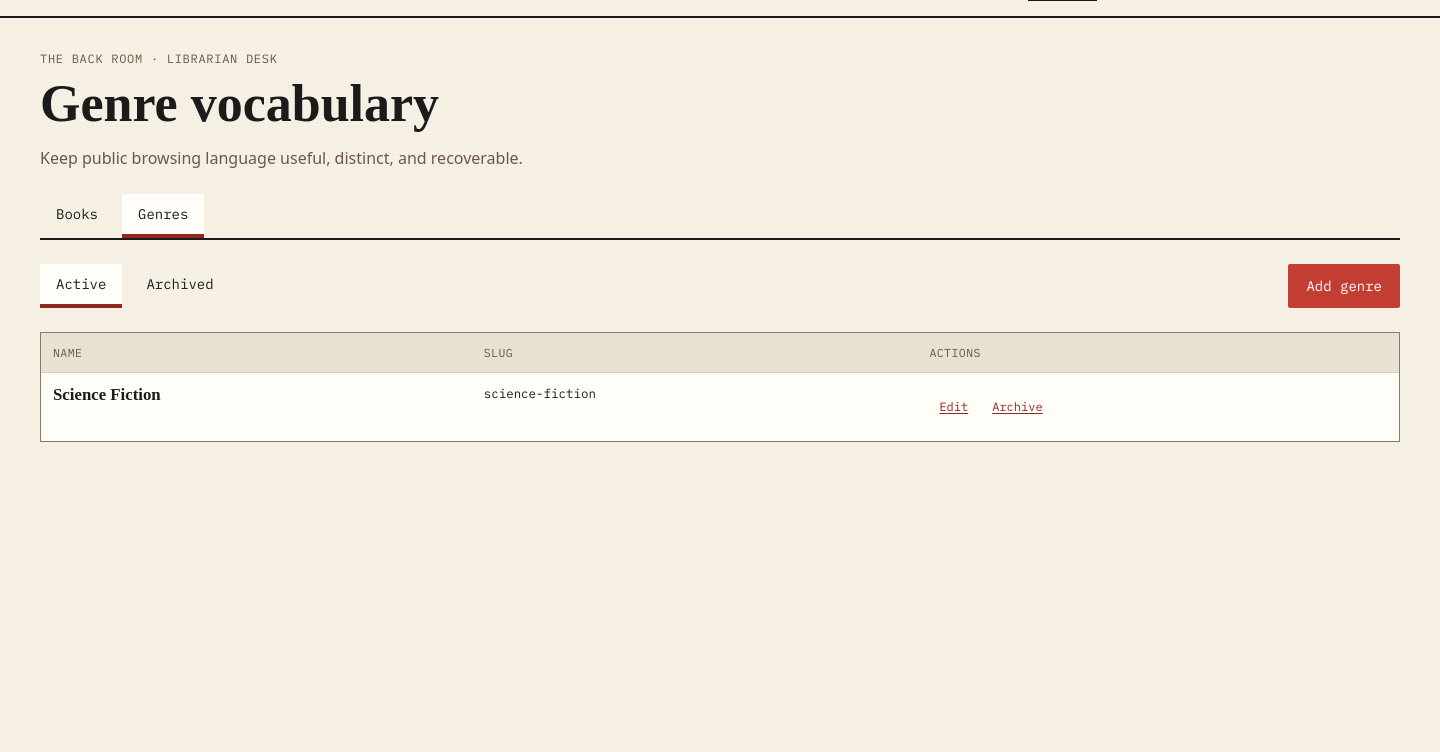
genre management › shows the sole-active-genre conflict and retains an open edit form
Click the button "Edit".
click(954, 407)  # box [929,385,978,429]
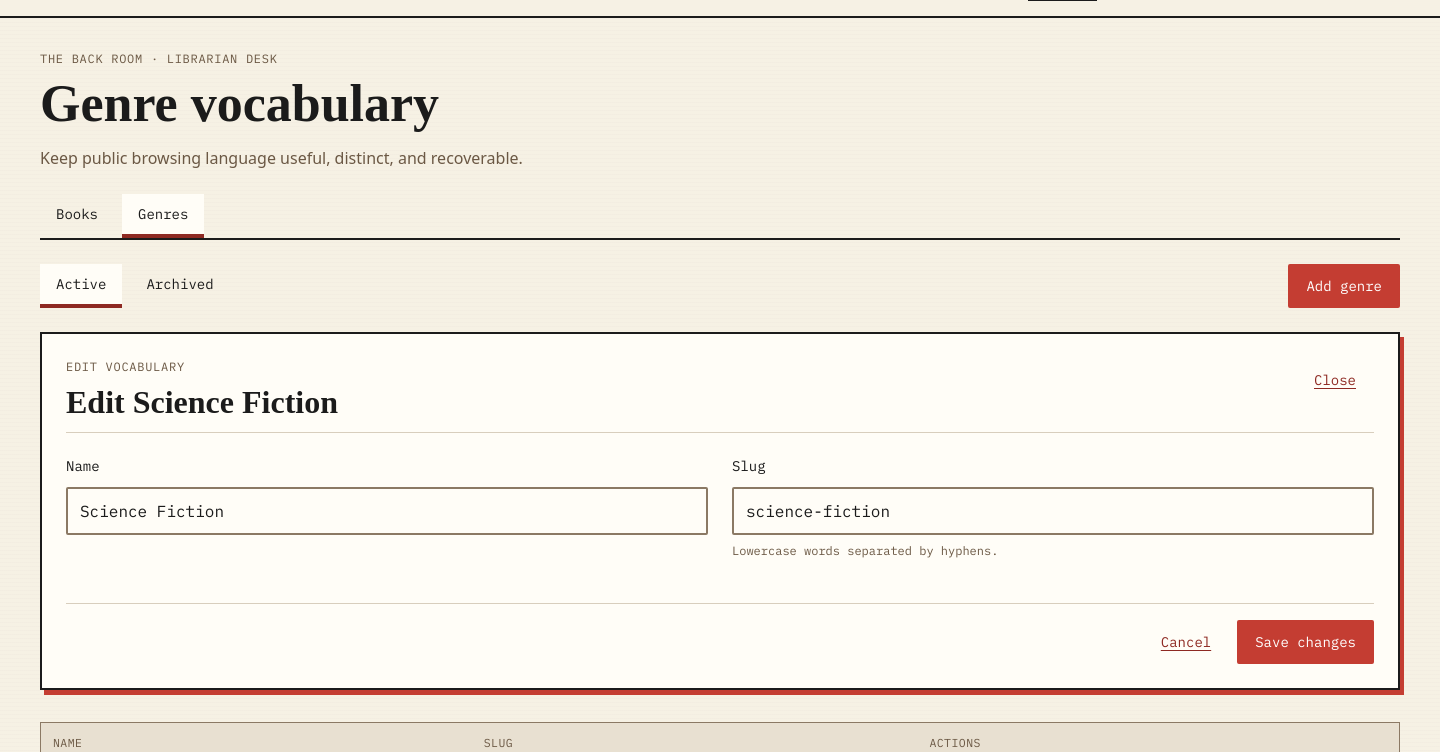
Replace the text in the field labelled "Name" with "Speculative Fiction" at (387, 511), box [66,487,708,535]
(page scrolled)
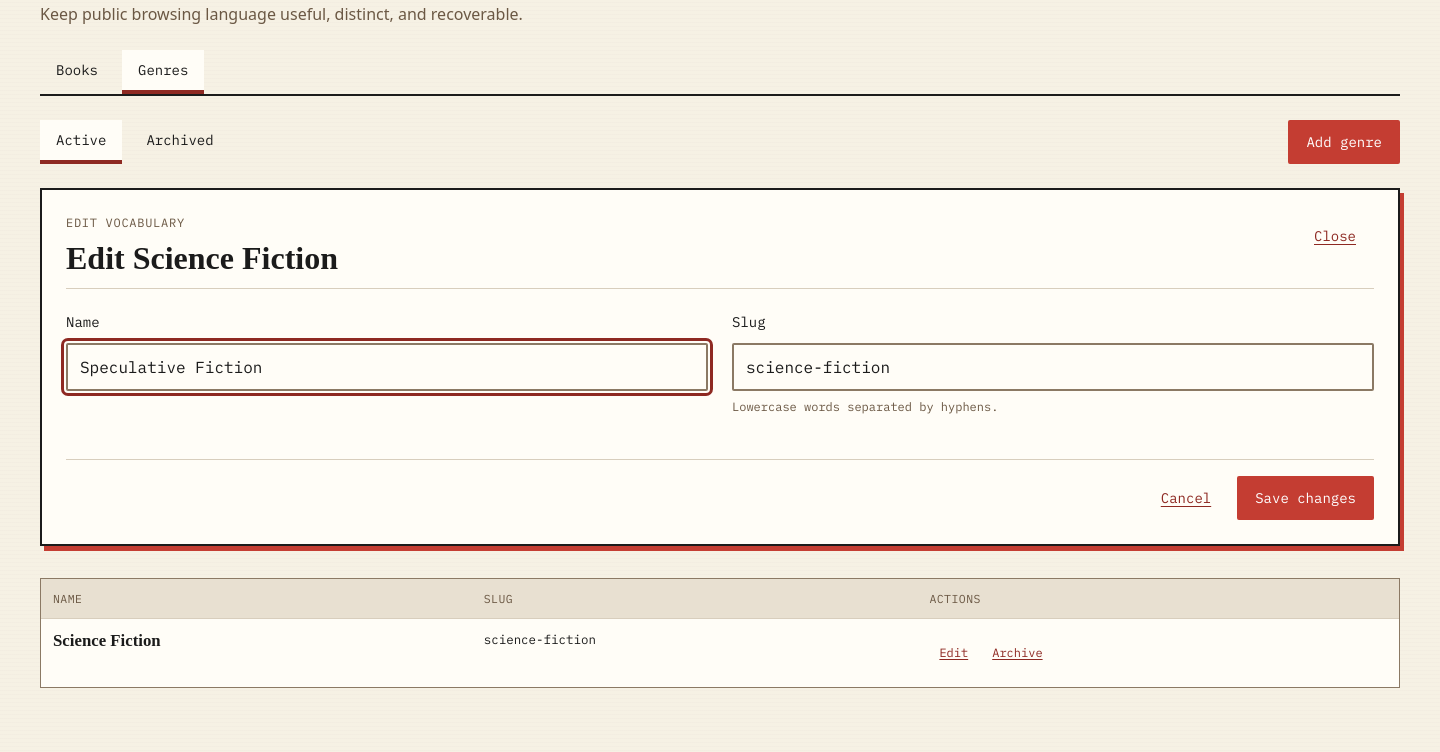
Click the button "Archive".
click(1017, 653)  # box [982,631,1053,675]
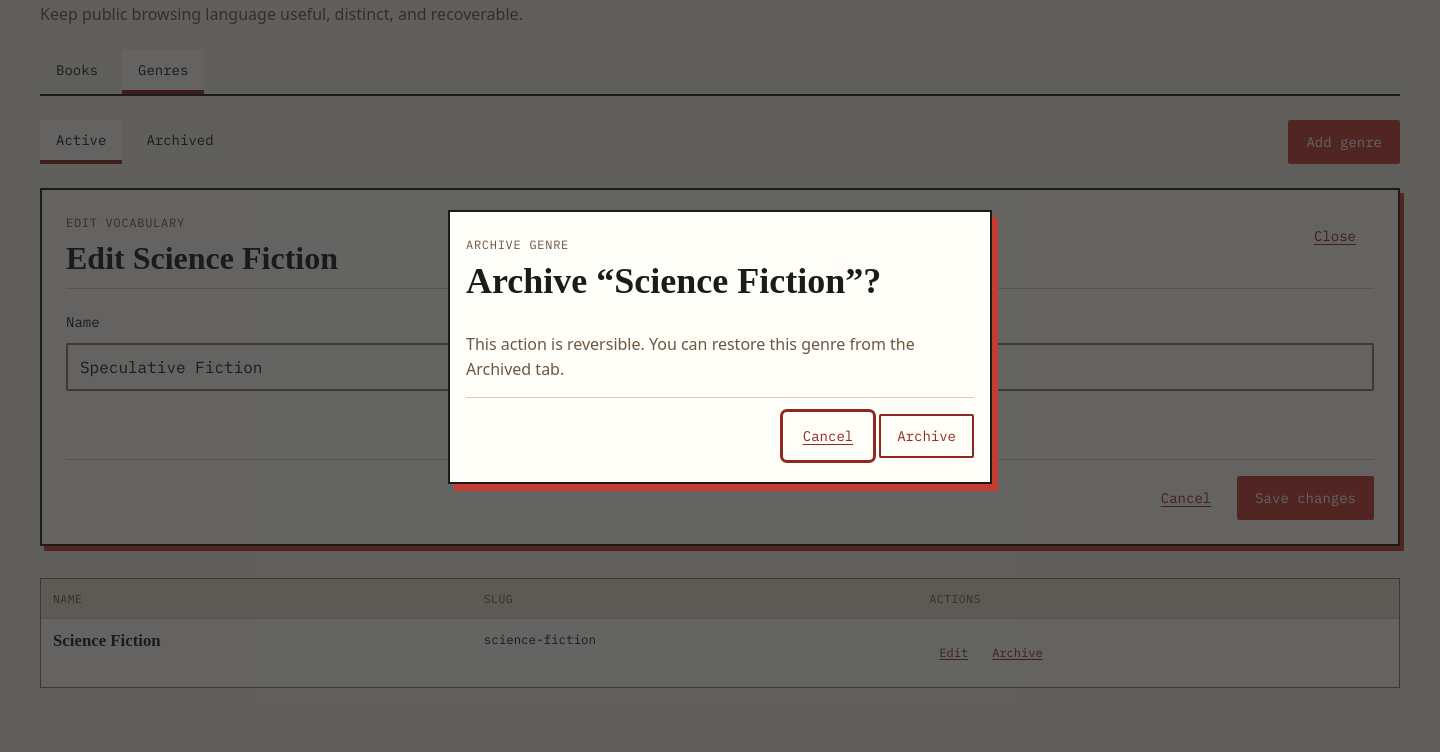
Click the button "Archive".
click(927, 436)  # box [879,414,974,458]
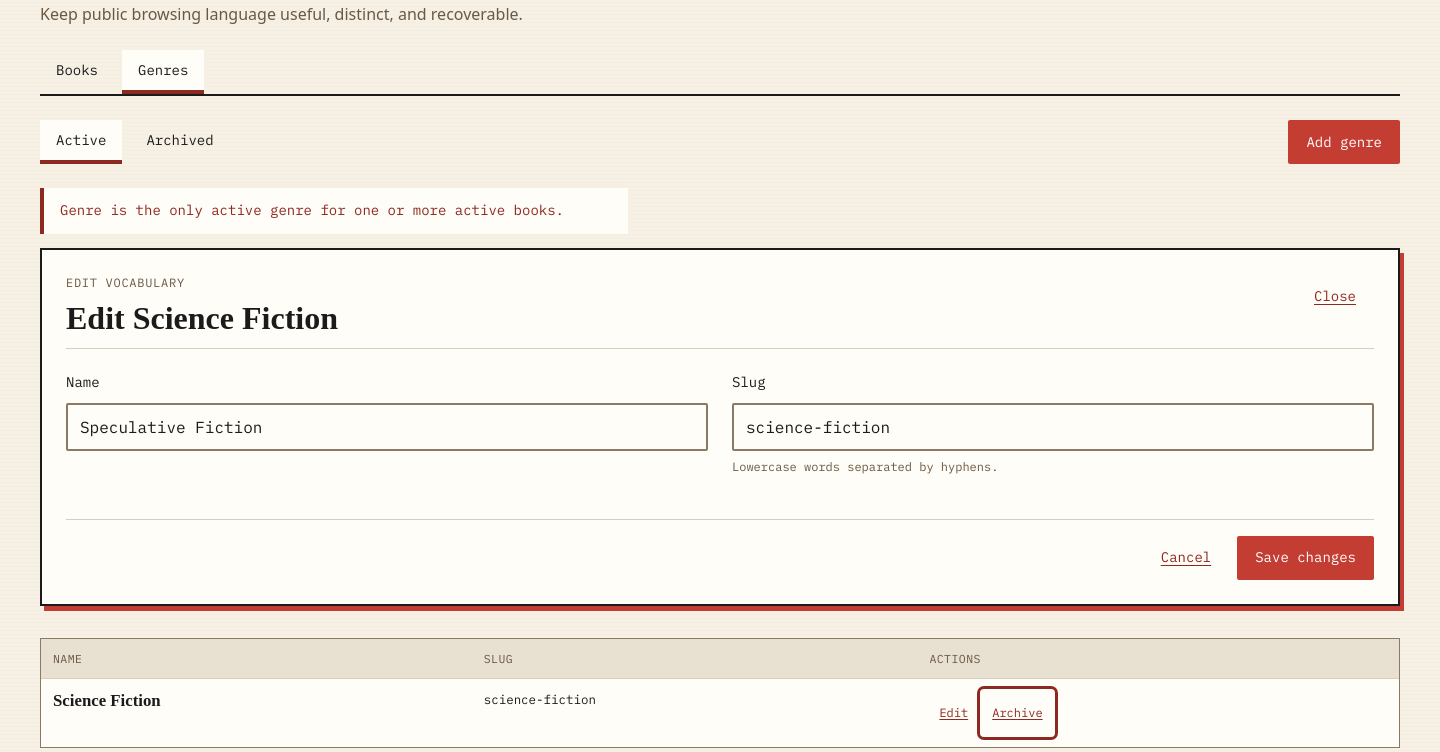
expect the message reads "Genre is the only active genre for one or more active books.": met, box [60,201,564,219]
